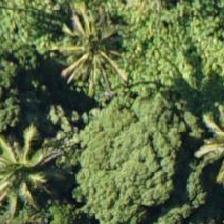coconut_tree: (40, 7, 130, 97), (0, 128, 52, 218), (177, 93, 223, 183)
